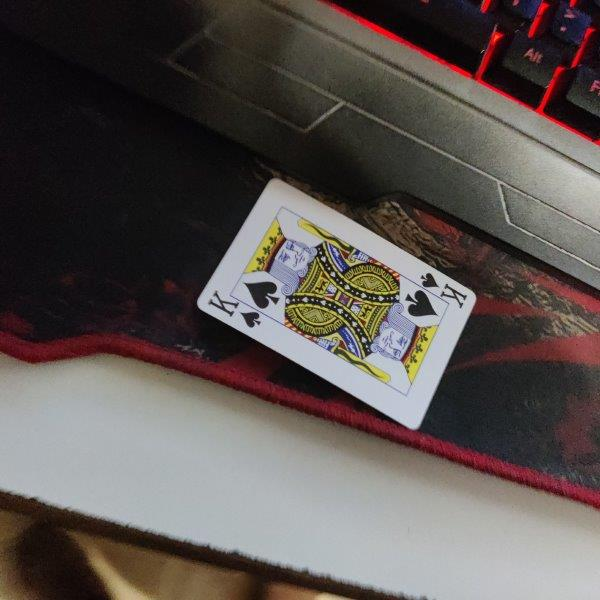King of Spades: (197, 177, 477, 432)
